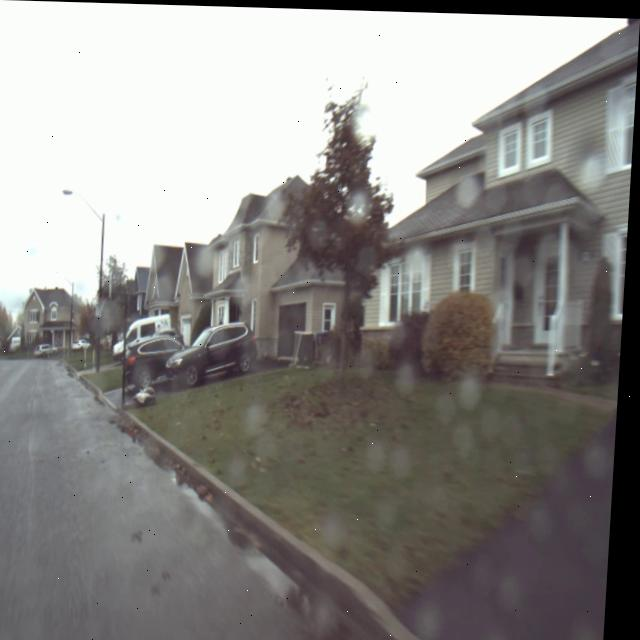car: (158, 310, 264, 384)
